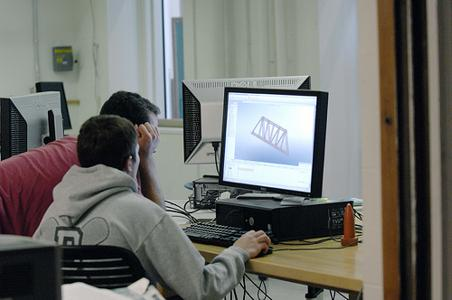person: (33, 114, 274, 300)
